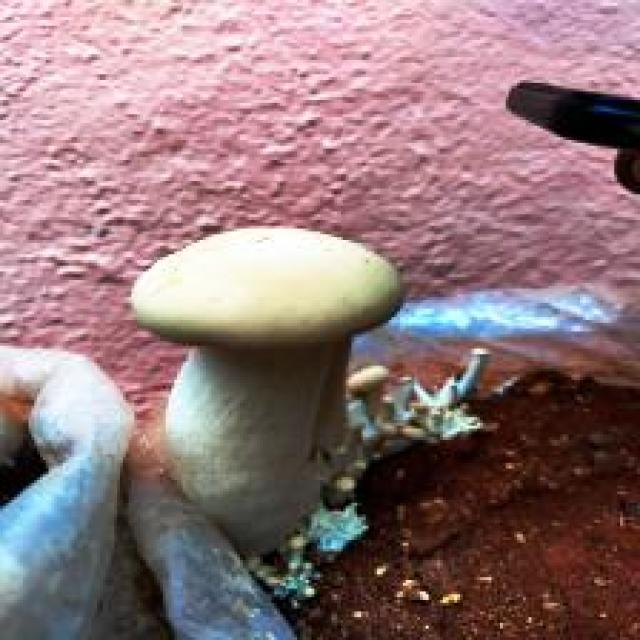field-mushroom: (126, 223, 406, 557), (0, 337, 134, 637)
